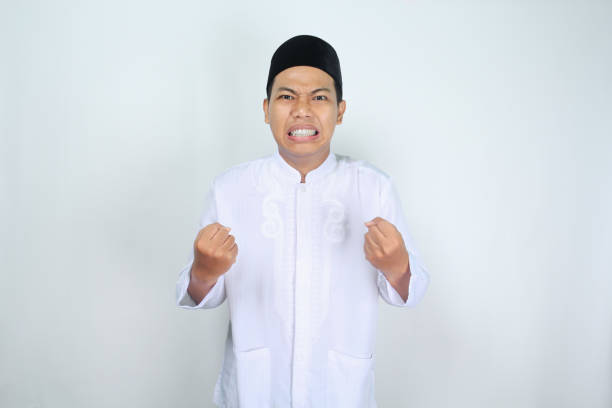Yes: (189, 218, 242, 280), (360, 213, 410, 273)
